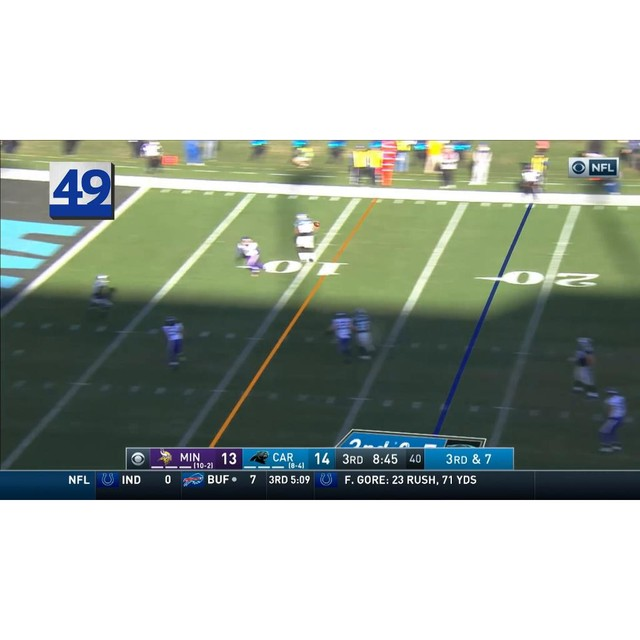american-football-player: (78, 272, 117, 332), (595, 388, 628, 452), (568, 336, 600, 398), (325, 310, 355, 363), (291, 211, 320, 265), (158, 315, 186, 370), (350, 307, 377, 361), (233, 236, 264, 278)
referee: (518, 163, 541, 205)
